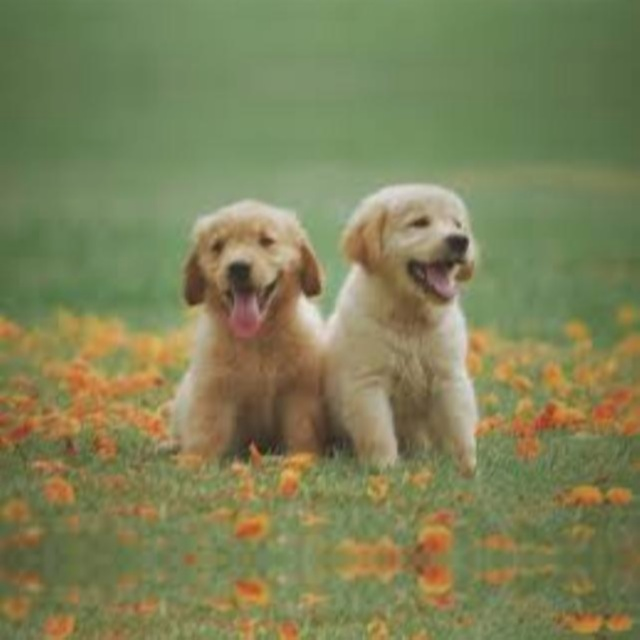dog: (334, 182, 500, 482), (167, 195, 330, 465), (334, 637, 500, 640)
